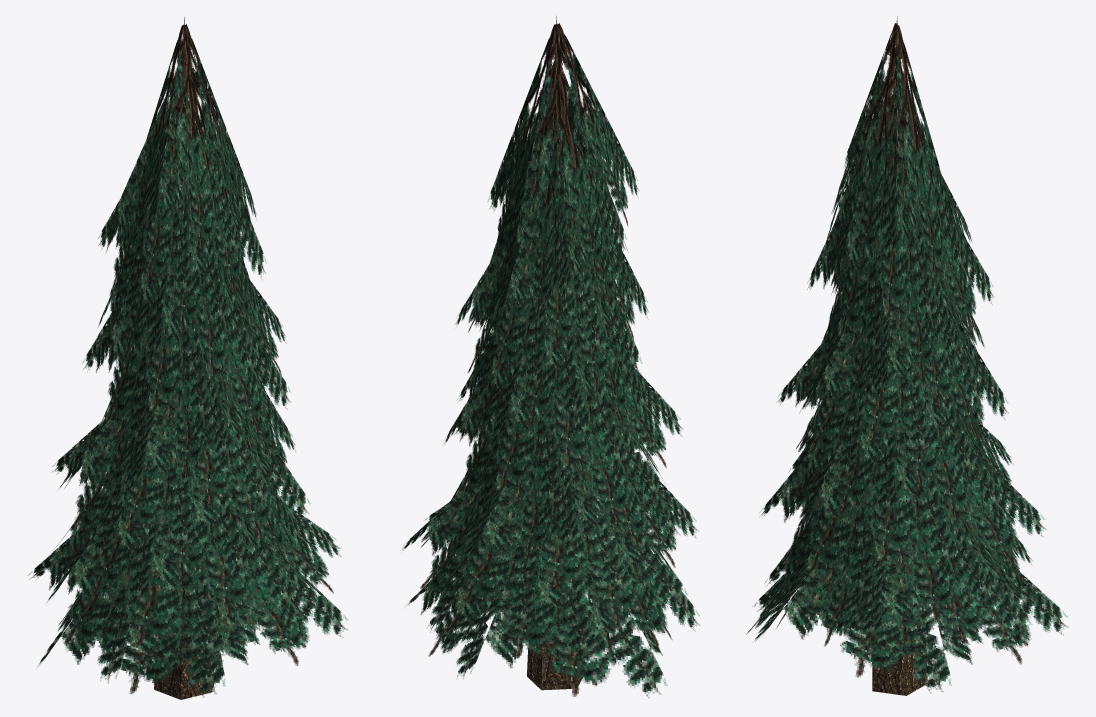
The model's file is pine_tree.glb.
3 views of the same model, side by side, from view 1: azimuth 30°, elevation 25°; view 2: azimuth 150°, elevation 25°; view 3: azimuth 270°, elevation 25° (orthographic).
Visible parts, largest first — view 1: pine_tree; view 2: pine_tree; view 3: pine_tree.
Part boxes in pixels (x1,y1,x2,y2): pine_tree: [27, 17, 347, 699]; pine_tree: [402, 16, 700, 698]; pine_tree: [746, 16, 1068, 695].
Size of the model in its own units: 5.58 by 12 by 5.55.
Materials: 2 (2 with a texture image).
